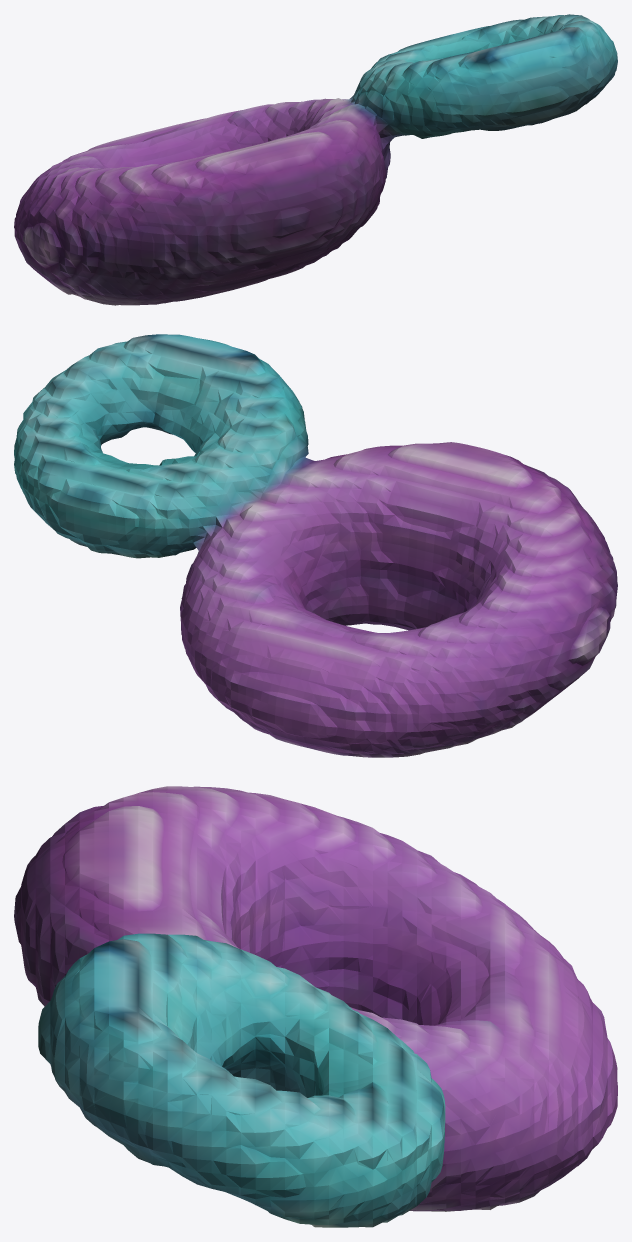
Rendered from triposr_next_to__torus_torus__000.glb.
3 renders of one model, top to bottom at view 1: azimuth 30°, elevation 25°; view 2: azimuth 150°, elevation 25°; view 3: azimuth 270°, elevation 25°, orthographic. The views are drawn at different scales.
Parts seen in each view (by area): view 1: geometry_0; view 2: geometry_0; view 3: geometry_0.
Part boxes in pixels (x1,y1,x2,y2): geometry_0: (14,14,617,305); geometry_0: (14,334,617,757); geometry_0: (14,786,617,1227).
Size of the model in its own units: 0.9528 by 0.3812 by 0.5644.
